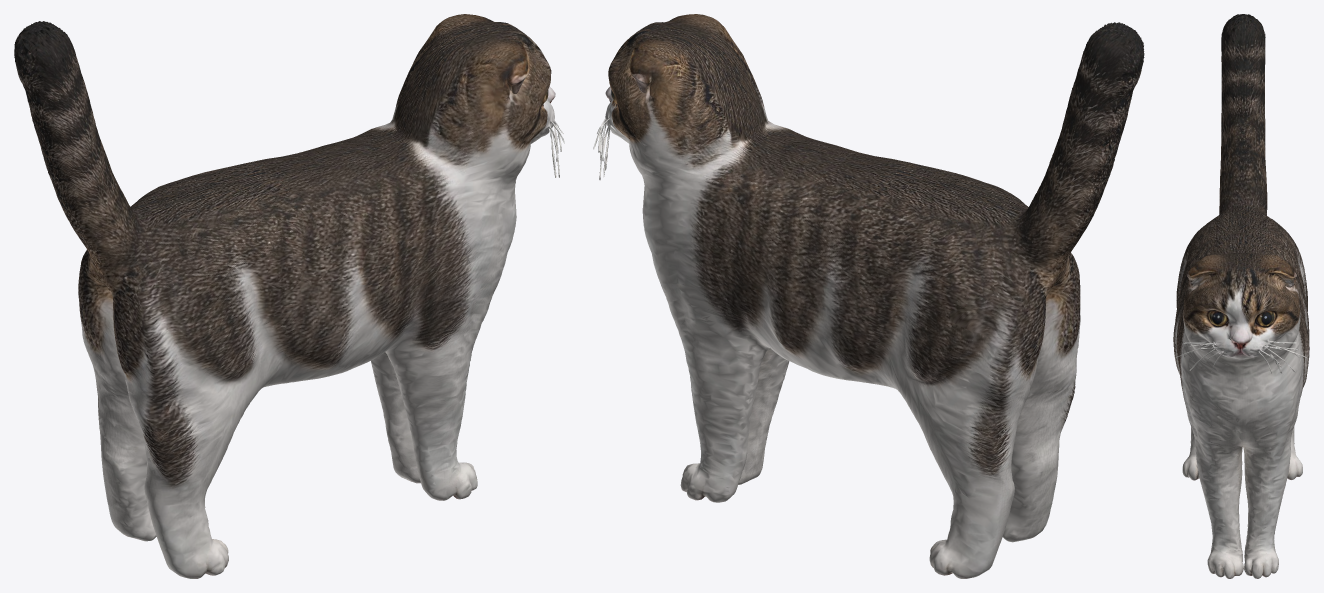
Rendered from FUKURA.glb.
The picture shows the model from 3 angles, left to right: view 1: azimuth 30°, elevation 25°; view 2: azimuth 150°, elevation 25°; view 3: azimuth 270°, elevation 25°; orthographic projection. The views are drawn at different scales.
Visible parts, largest first — view 1: tripo_node_cbb5c6ea-8075-41a4-9d39-eee624dc7d40; view 2: tripo_node_cbb5c6ea-8075-41a4-9d39-eee624dc7d40; view 3: tripo_node_cbb5c6ea-8075-41a4-9d39-eee624dc7d40.
Part boxes in pixels (x1=…): tripo_node_cbb5c6ea-8075-41a4-9d39-eee624dc7d40: x1=14, y1=14, x2=564, y2=578; tripo_node_cbb5c6ea-8075-41a4-9d39-eee624dc7d40: x1=593, y1=14, x2=1144, y2=578; tripo_node_cbb5c6ea-8075-41a4-9d39-eee624dc7d40: x1=1173, y1=14, x2=1309, y2=578.
Bounding box in the file's own units: 0.9975 × 0.9998 × 0.297.
Materials: 1 (1 with a texture image).
